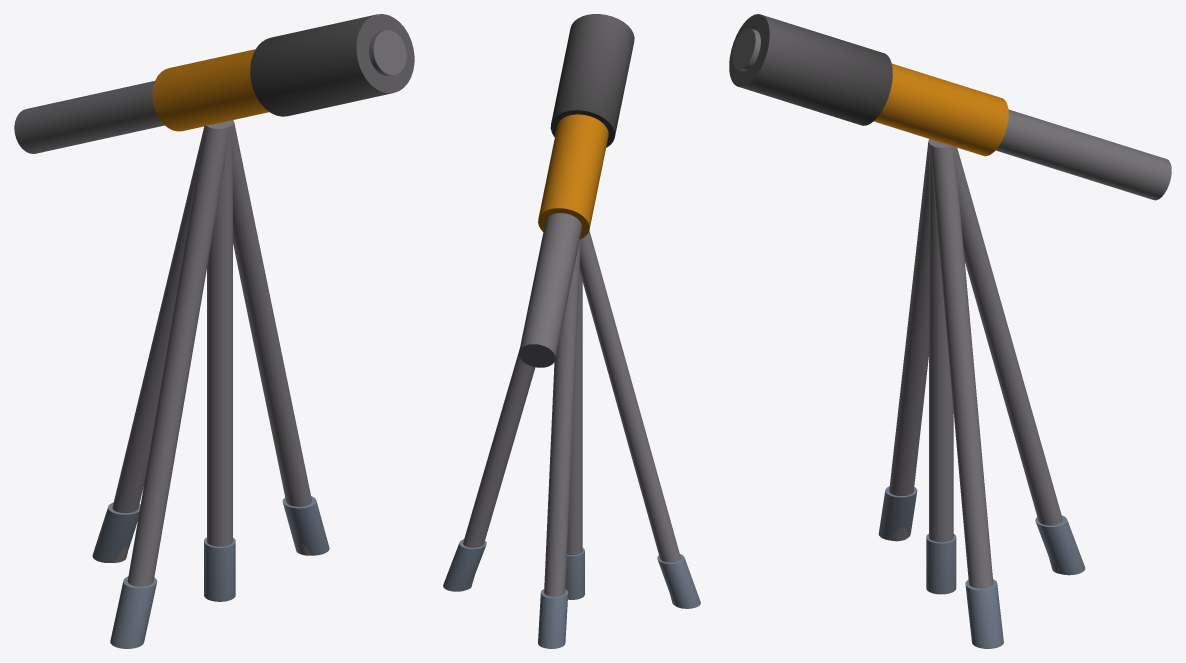
The model's file is SM_Telescop.fbx.
The picture shows the model from 3 angles, left to right: view 1: azimuth 30°, elevation 25°; view 2: azimuth 150°, elevation 25°; view 3: azimuth 270°, elevation 25°; orthographic projection. The views are drawn at different scales.
Parts seen in each view (by area): view 1: SM_Telescope; view 2: SM_Telescope; view 3: SM_Telescope.
Boxes of the visible parts, bbox=[...] form: SM_Telescope: bbox=[14, 14, 414, 648]; SM_Telescope: bbox=[443, 14, 700, 648]; SM_Telescope: bbox=[729, 14, 1171, 648].
Bounding box in the file's own units: 58.52 × 89.9 × 134.
